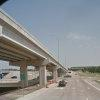Bridge: (7, 10, 72, 78)
